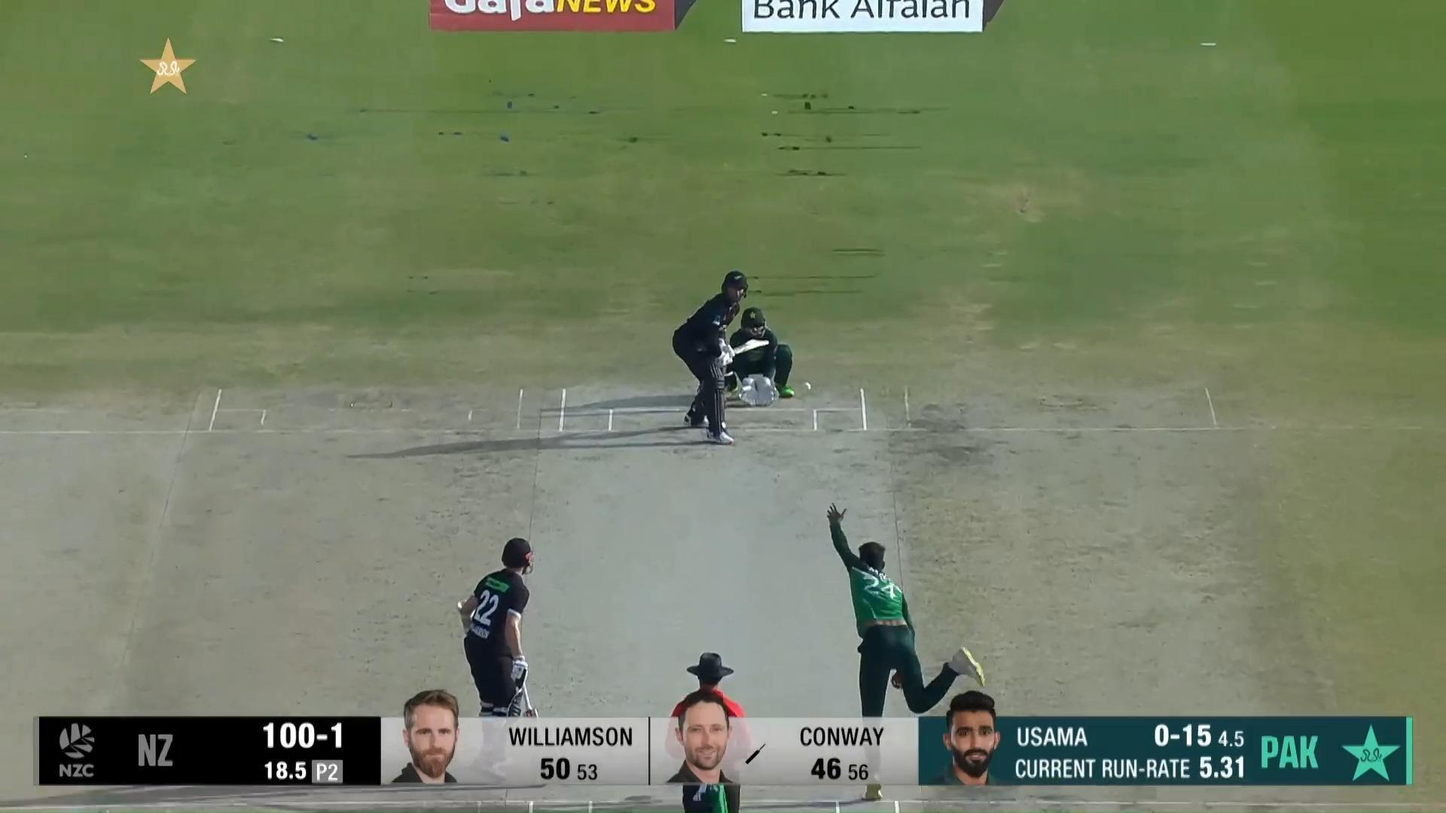BM 1: (672, 270, 769, 445)
BO: (827, 502, 986, 717)
